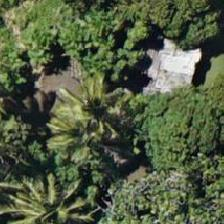coconut_tree: (34, 89, 124, 179), (50, 58, 140, 148)
